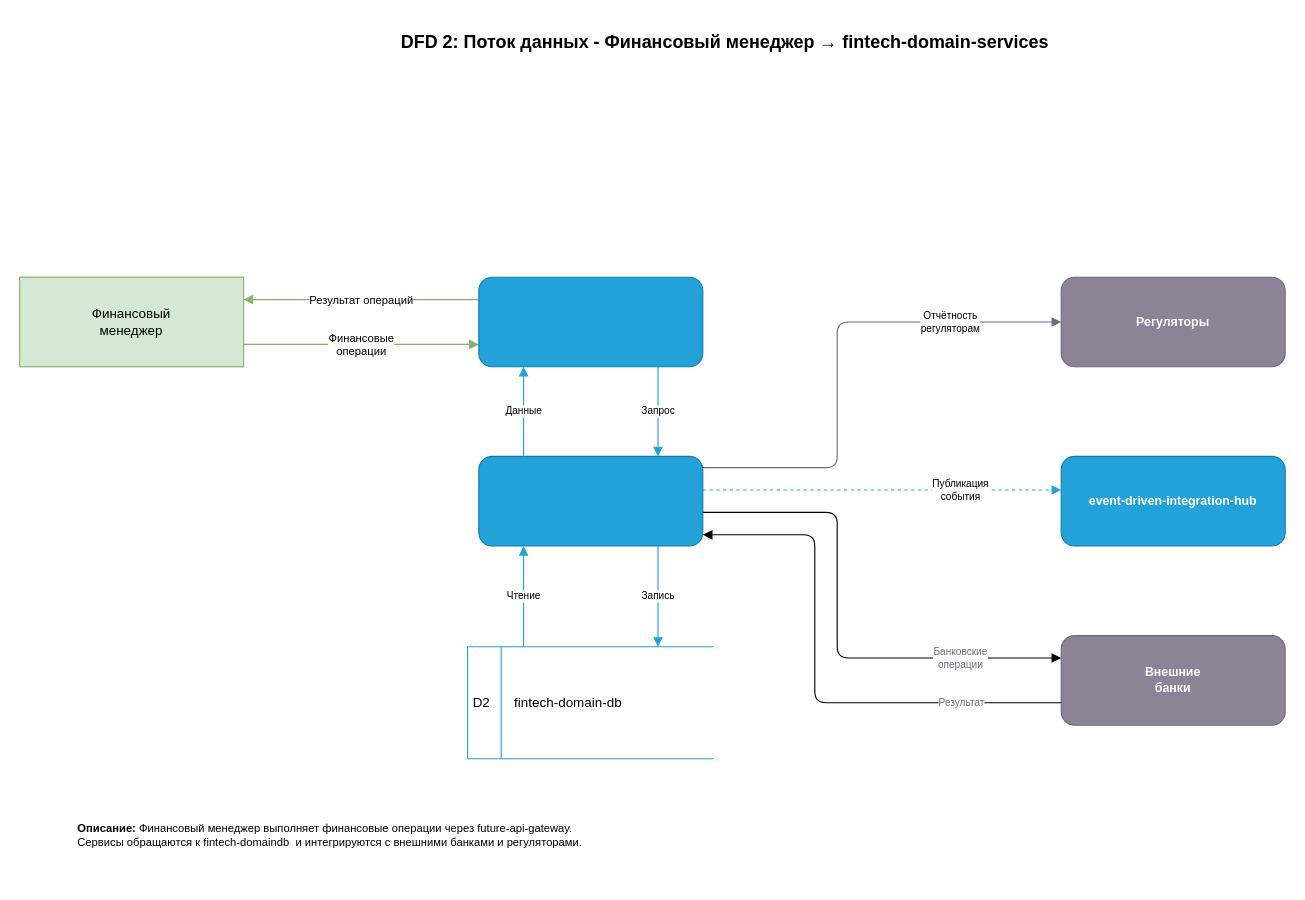
The diagram is 1305 pixels wide and 900 high, and some of its shapes have lost their labels. The centre of each missing label's shape, as x and y in pixels:
"1.0 future-api-gateway" belongs at point (590, 321).
"3.0 fintech-domain-services" belongs at point (590, 500).
